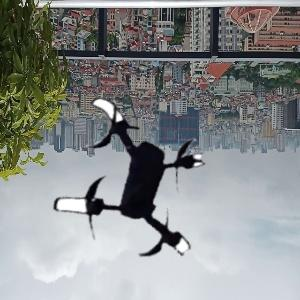drone: (35, 91, 218, 274)
